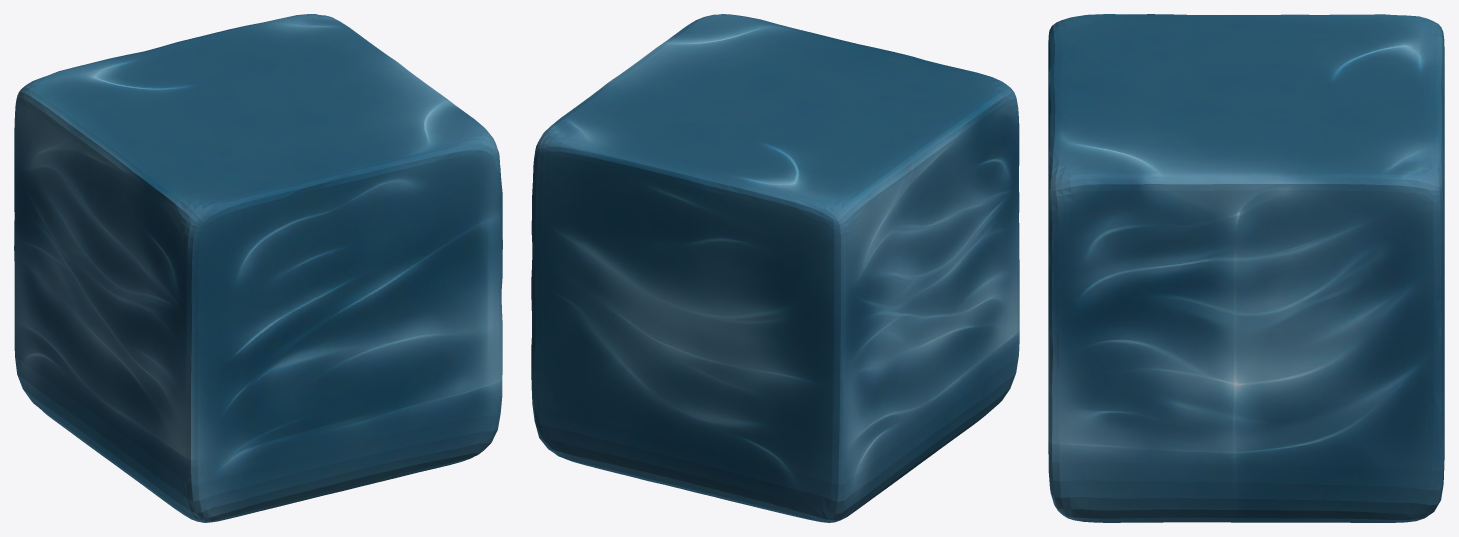
The model's file is voder-cube.glb.
3 views of the same model, side by side, from view 1: azimuth 30°, elevation 25°; view 2: azimuth 150°, elevation 25°; view 3: azimuth 270°, elevation 25° (orthographic). The views are drawn at different scales.
Parts seen in each view (by area): view 1: tripo_node_6c34a90f-1999-48b2-87ff-716bf5f58a70; view 2: tripo_node_6c34a90f-1999-48b2-87ff-716bf5f58a70; view 3: tripo_node_6c34a90f-1999-48b2-87ff-716bf5f58a70.
Boxes of the visible parts, x1=… form: tripo_node_6c34a90f-1999-48b2-87ff-716bf5f58a70: x1=14, y1=14, x2=502, y2=522; tripo_node_6c34a90f-1999-48b2-87ff-716bf5f58a70: x1=531, y1=14, x2=1019, y2=522; tripo_node_6c34a90f-1999-48b2-87ff-716bf5f58a70: x1=1048, y1=14, x2=1444, y2=522.
Size of the model in its own units: 0.9998 by 0.9956 by 0.9993.
Materials: 1 (1 with a texture image).
